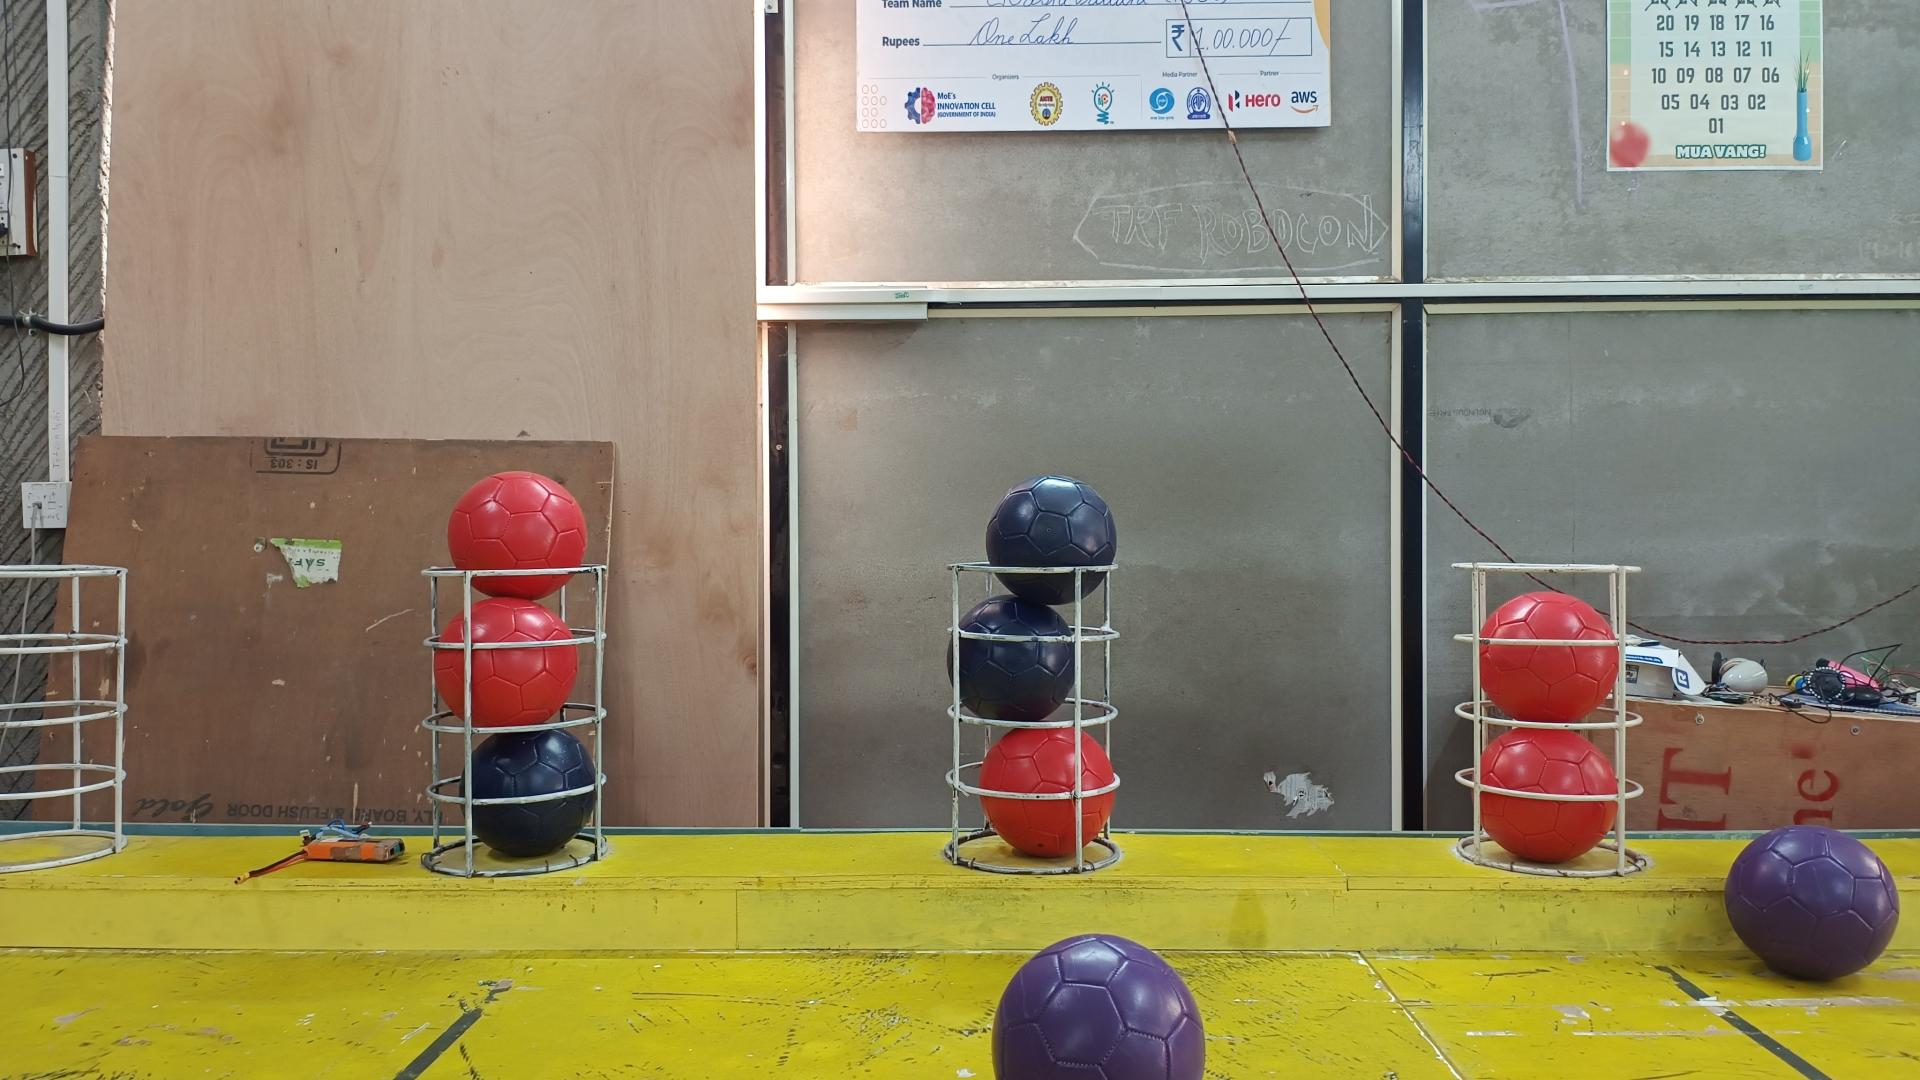dhoka: (458, 729, 597, 860), (985, 477, 1117, 608), (951, 595, 1077, 721)
laale: (447, 472, 591, 604), (1480, 731, 1618, 865), (438, 599, 580, 729), (1481, 591, 1621, 723), (977, 728, 1117, 856)
